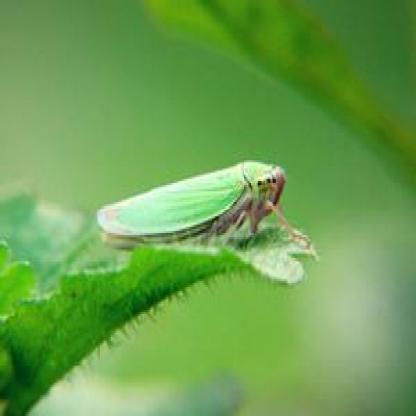Green-Leafhopper: (98, 157, 287, 264)
